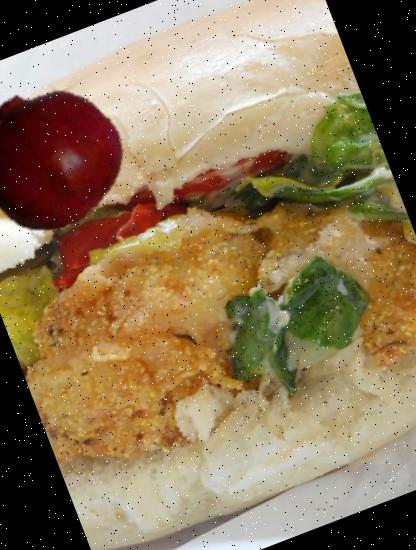Pomegranate: (0, 62, 142, 252)
